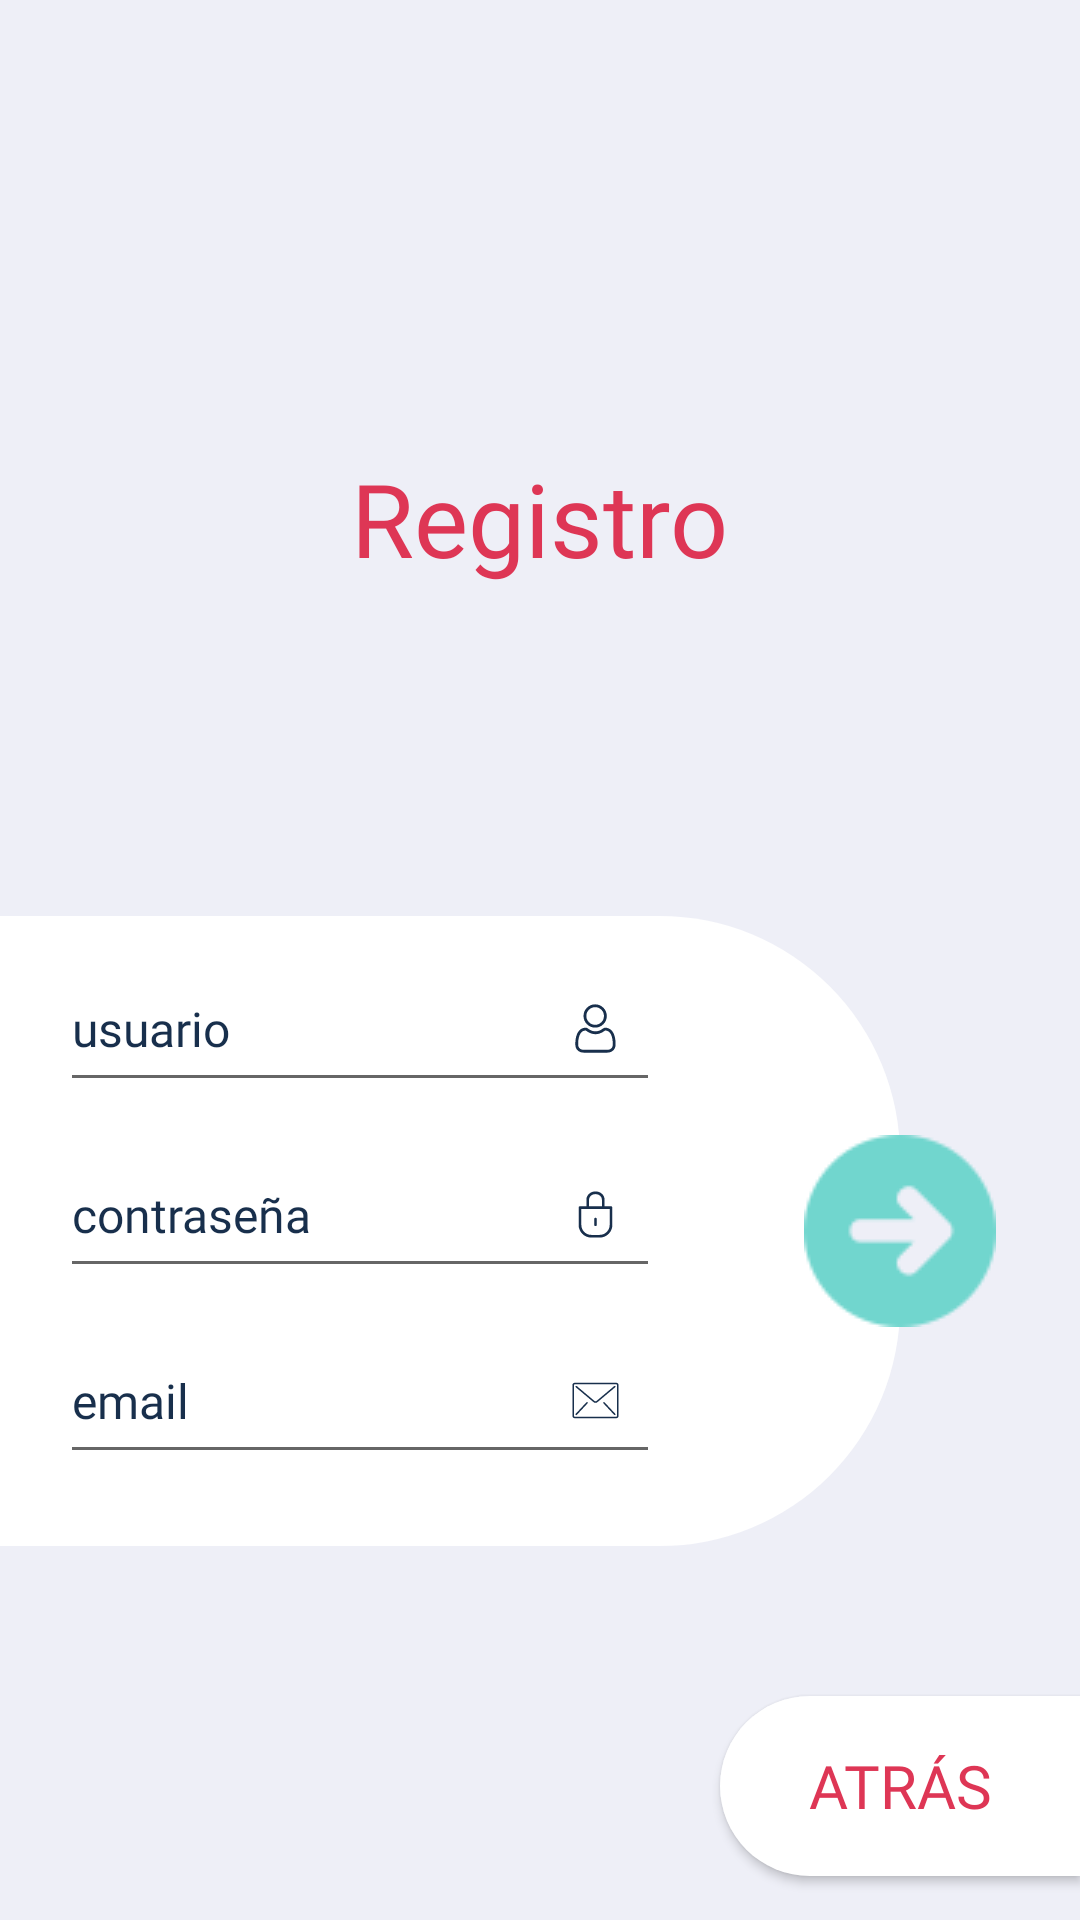

Locate icon controls on the screen. Image size 1080×1920, boxes as detection(x1, y1, x2, y2).
next: detection(804, 1135, 996, 1327)
